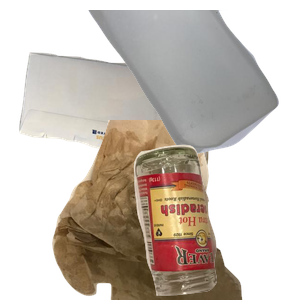glass: (131, 142, 300, 300)
paper: (17, 50, 231, 230)
plastic: (84, 10, 300, 157)
trash: (50, 120, 285, 300)
